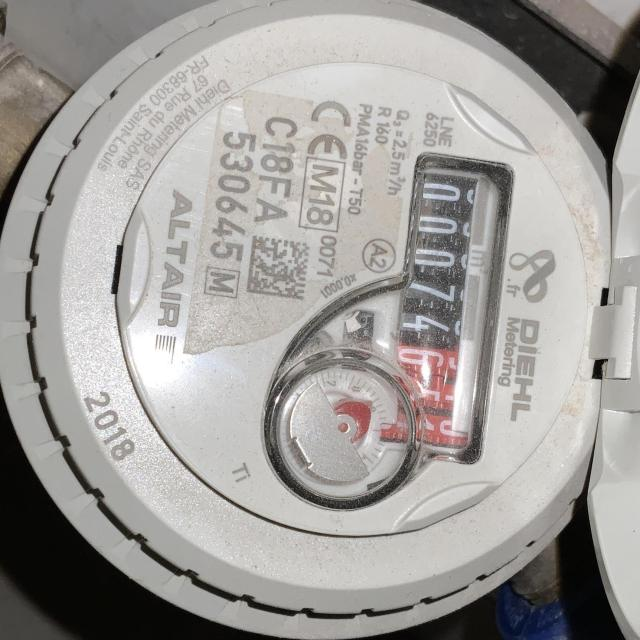gaz_meter: (108, 59, 591, 539)
indication: (384, 150, 510, 466)
